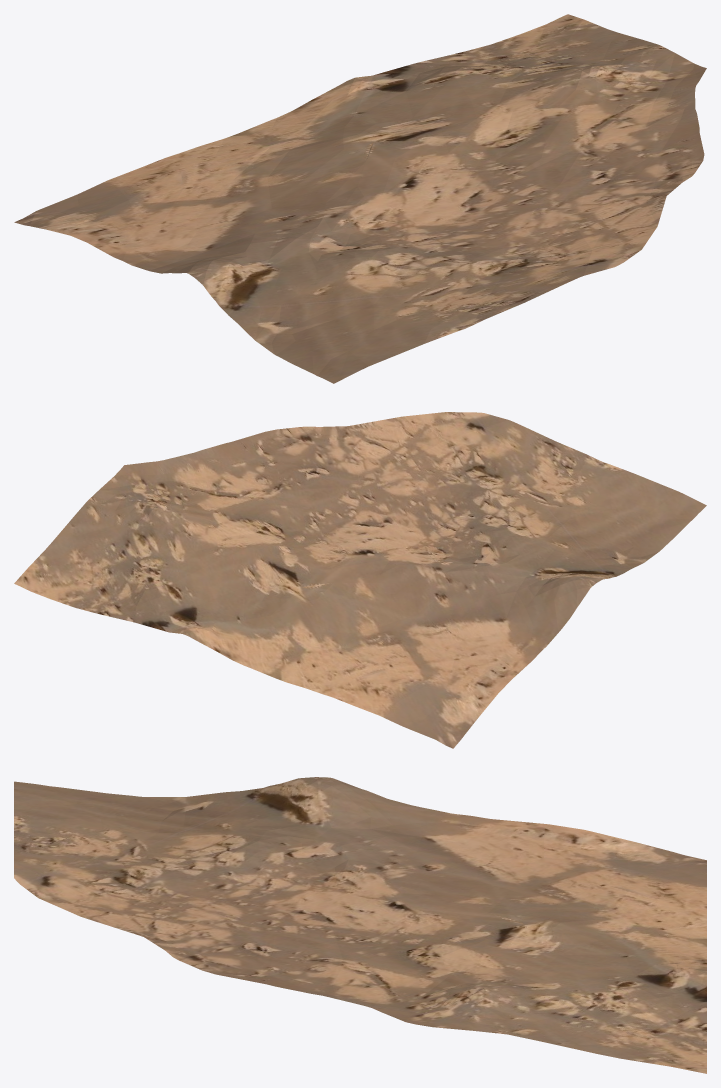
3 renders of one model, top to bottom at view 1: azimuth 30°, elevation 25°; view 2: azimuth 150°, elevation 25°; view 3: azimuth 270°, elevation 25°, orthographic. The views are drawn at different scales.
Bounding box in the file's own units: 1.04 × 0.2176 × 1.04.
2 materials, 2 textured.
